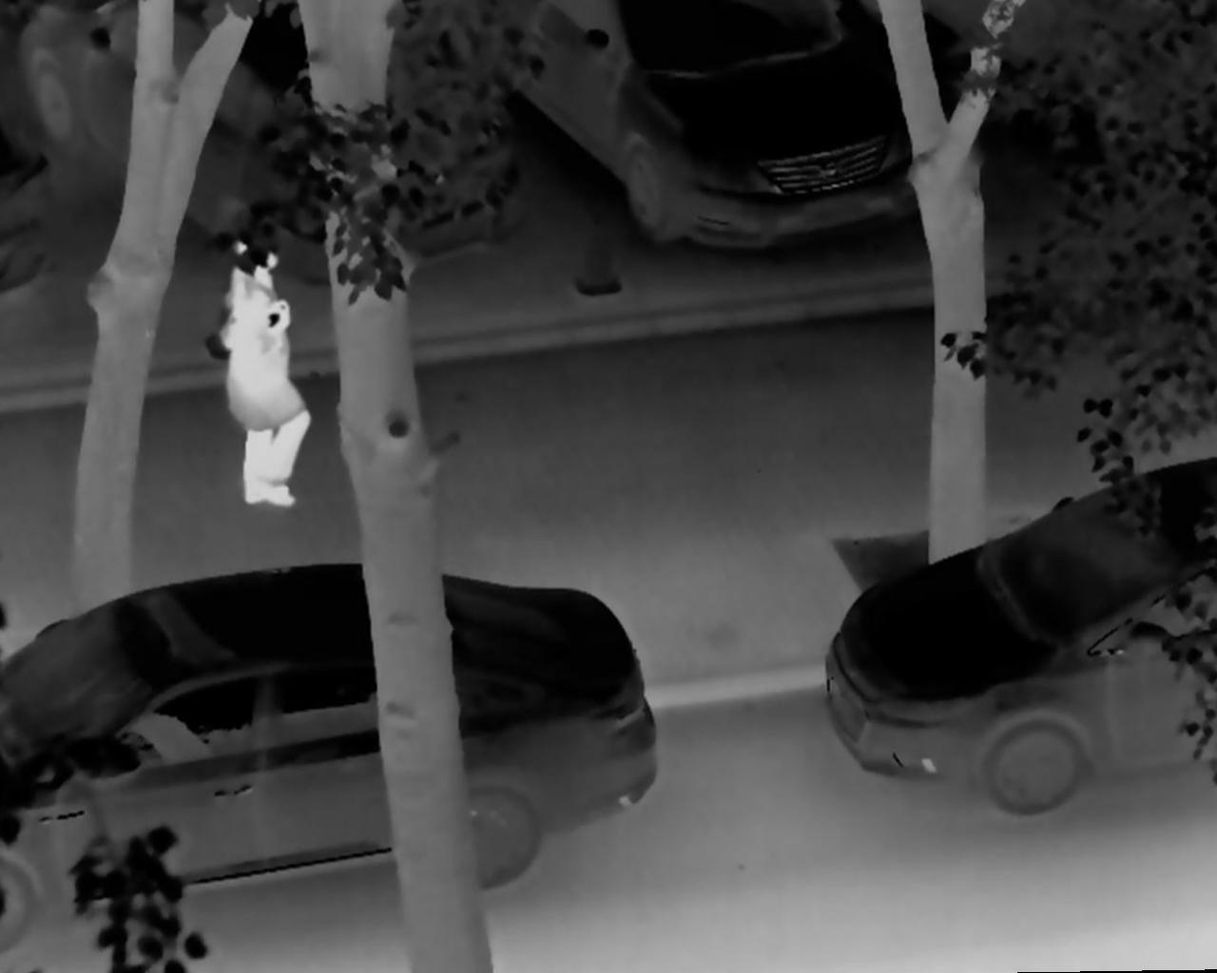person: (207, 225, 311, 509)
